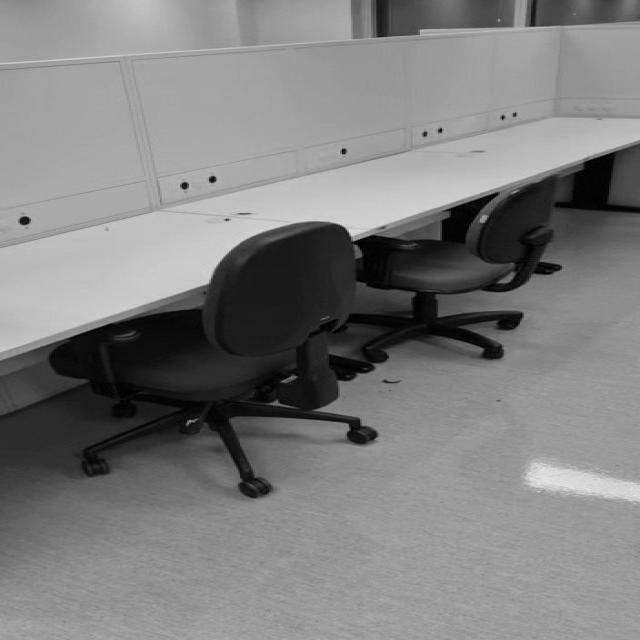chair: (46, 220, 380, 500)
